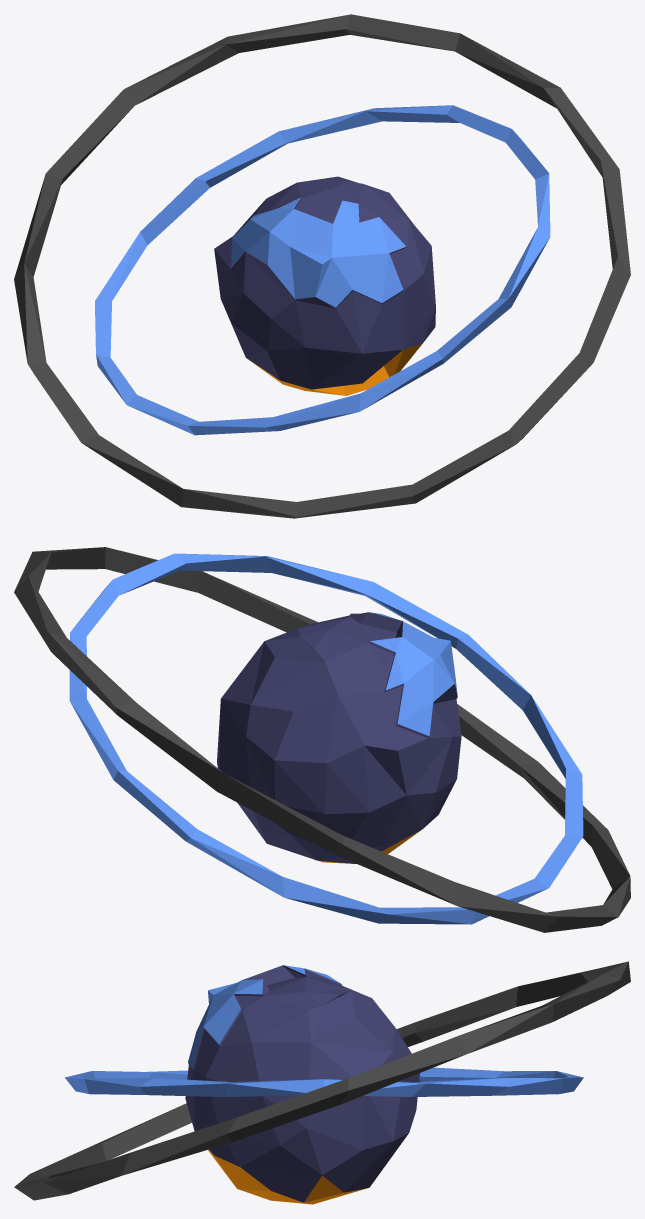
File: Planet5.glb
The picture shows the model from 3 angles, top to bottom: view 1: azimuth 30°, elevation 25°; view 2: azimuth 150°, elevation 25°; view 3: azimuth 270°, elevation 25°; orthographic projection. The views are drawn at different scales.
Parts seen in each view (by area): view 1: Planet5; view 2: Planet5; view 3: Planet5.
Boxes of the visible parts, x1,y1,x2,y2 form: Planet5: [14, 14, 630, 518]; Planet5: [14, 547, 630, 932]; Planet5: [14, 961, 630, 1204].
Bounding box in the file's own units: 28.89 × 15.52 × 29.26.
1 material, 1 textured.
